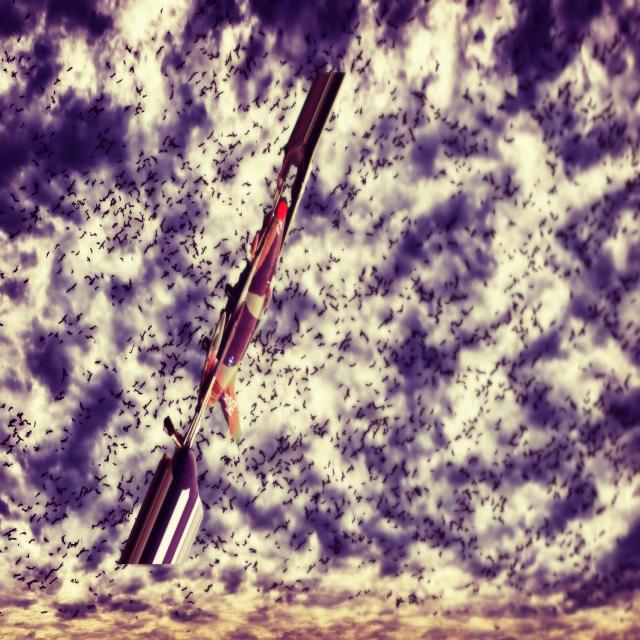airplane: (116, 66, 346, 566)
